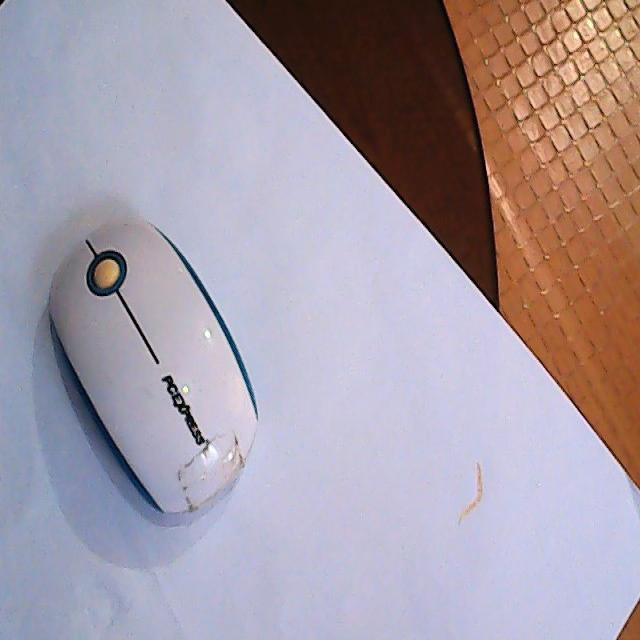mouse: (46, 212, 261, 520)
